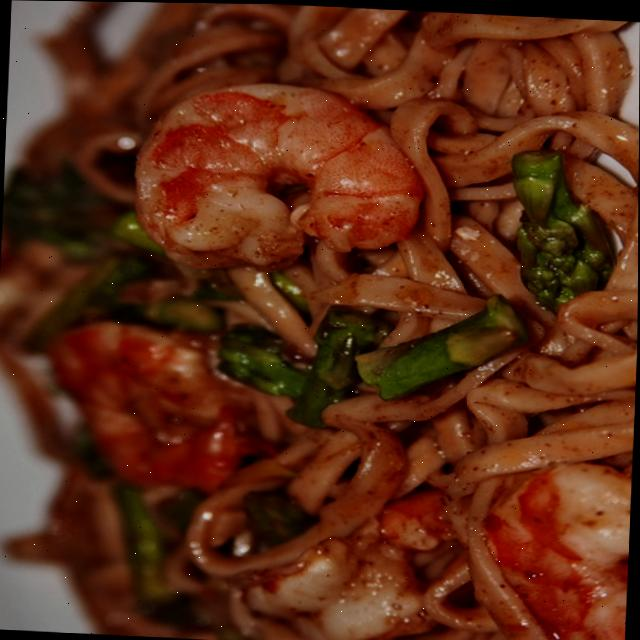面条主食: (0, 5, 634, 640)
